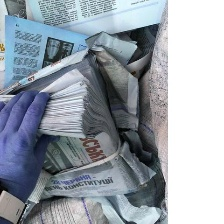news_paper: (0, 50, 147, 200), (0, 13, 92, 89), (34, 0, 168, 44)
